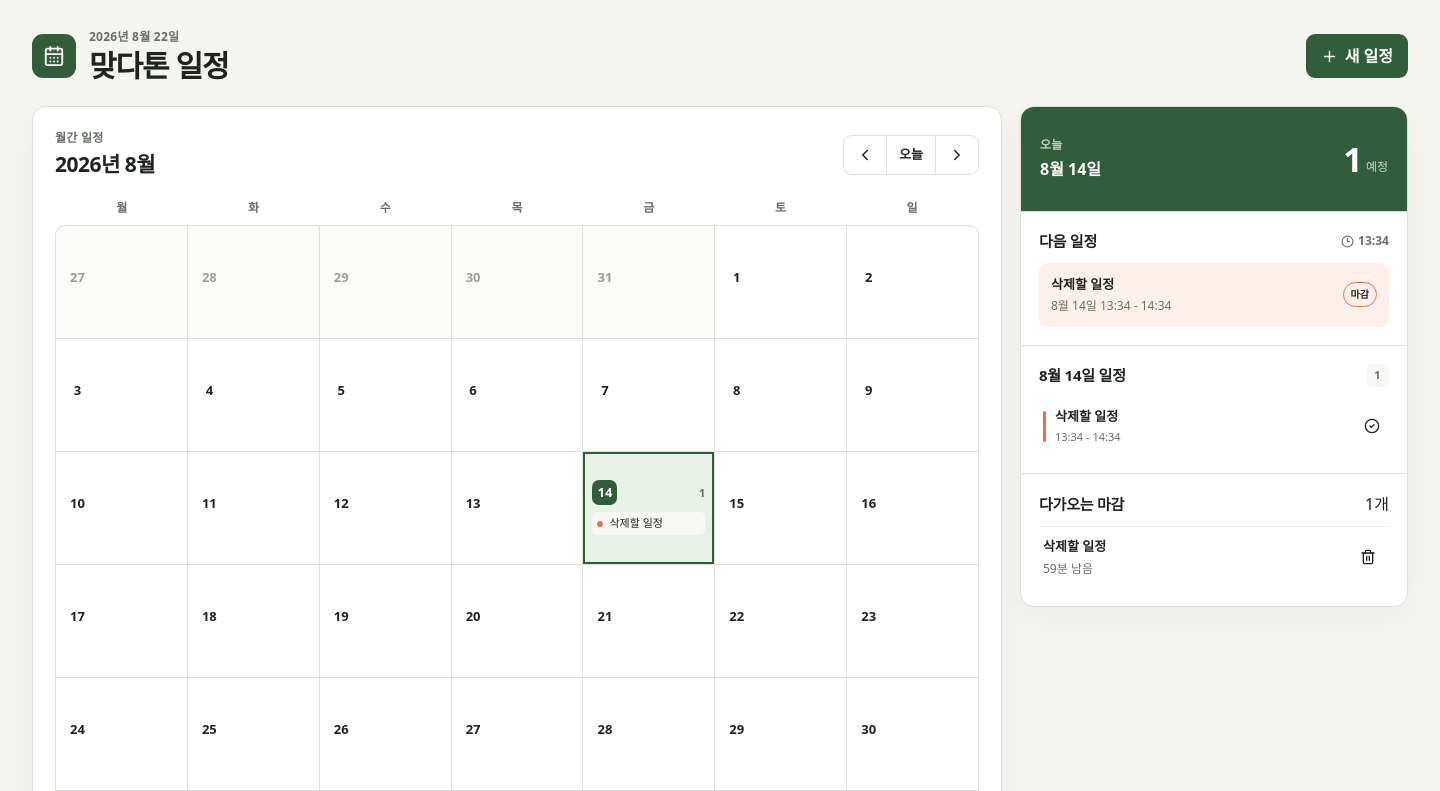
Test: App › 다가오는 일정을 삭제한다
Click the button named "삭제할 일정 삭제". click: [1368, 557]
box: [1351,540,1385,574]
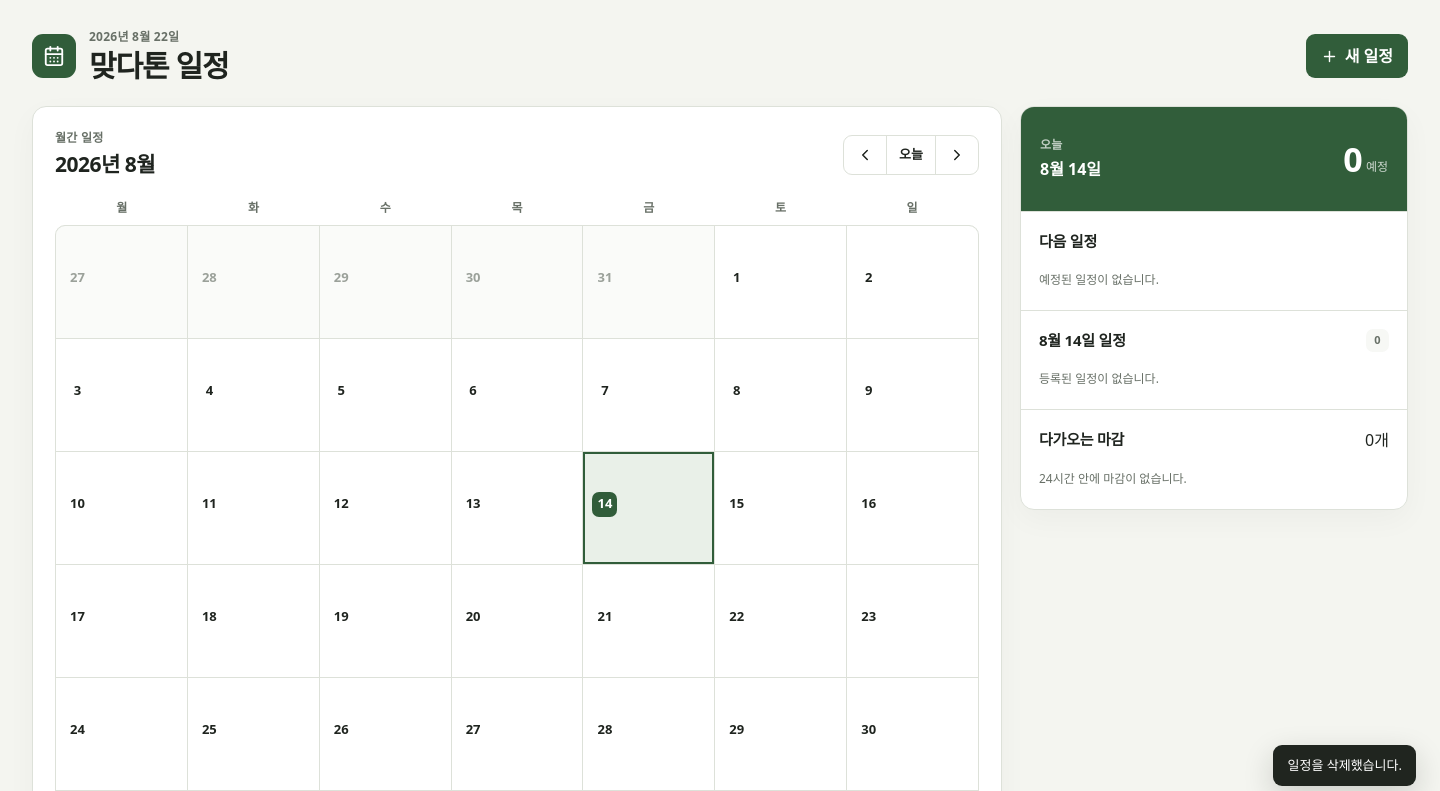
Check: the text "일정을 삭제했습니다." is shown, box [1274,744,1416,786]
